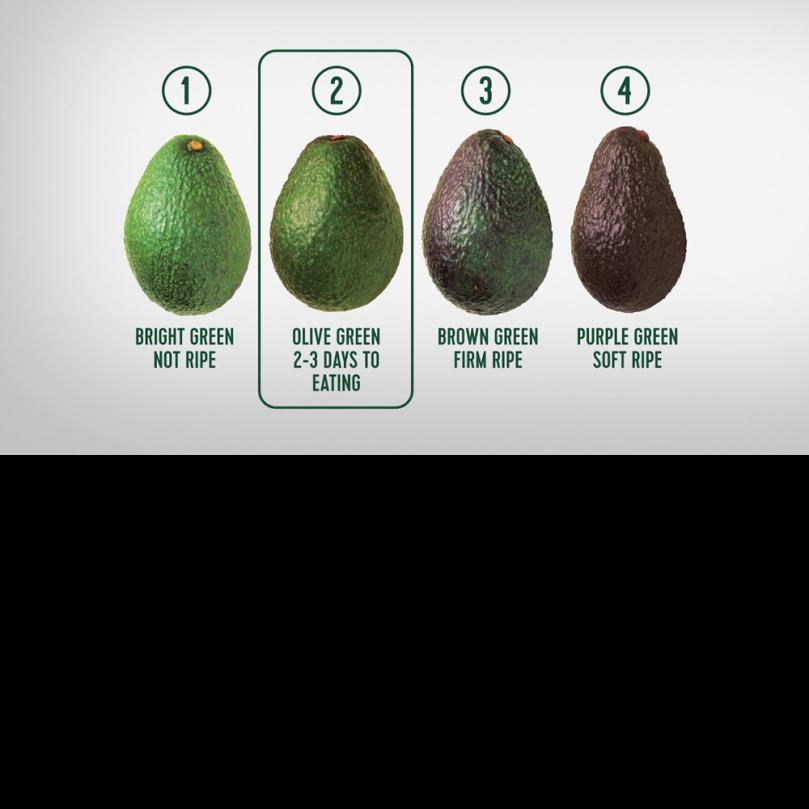almost: (424, 130, 552, 316)
ripe: (573, 126, 687, 313)
unripe: (269, 135, 403, 312), (123, 134, 252, 316)
